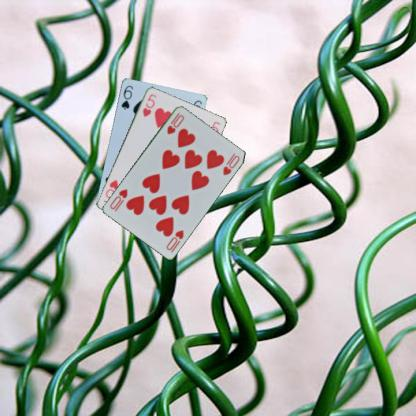10h: (164, 110, 186, 135), (163, 227, 185, 251)
5h: (140, 91, 158, 118)
6s: (118, 83, 134, 110)
